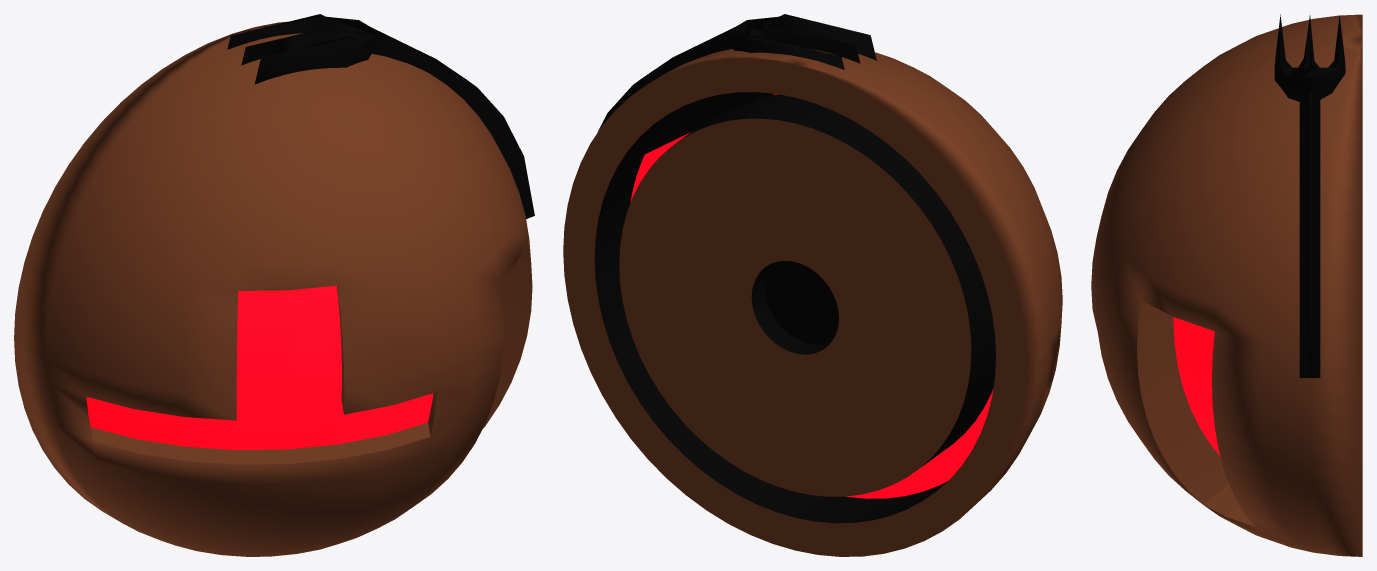
File: VRbombLEFT.fbx
3 renders of one model, left to right at view 1: azimuth 30°, elevation 25°; view 2: azimuth 150°, elevation 25°; view 3: azimuth 270°, elevation 25°, orthographic. The views are drawn at different scales.
Parts seen in each view (by area): view 1: fork; view 2: fork; view 3: fork.
Part boxes in pixels (x1,y1,x2,y2): fork: [14, 14, 534, 556]; fork: [563, 14, 1062, 556]; fork: [1091, 14, 1362, 556].
Size of the model in its own units: 1175 by 1178 by 579.
